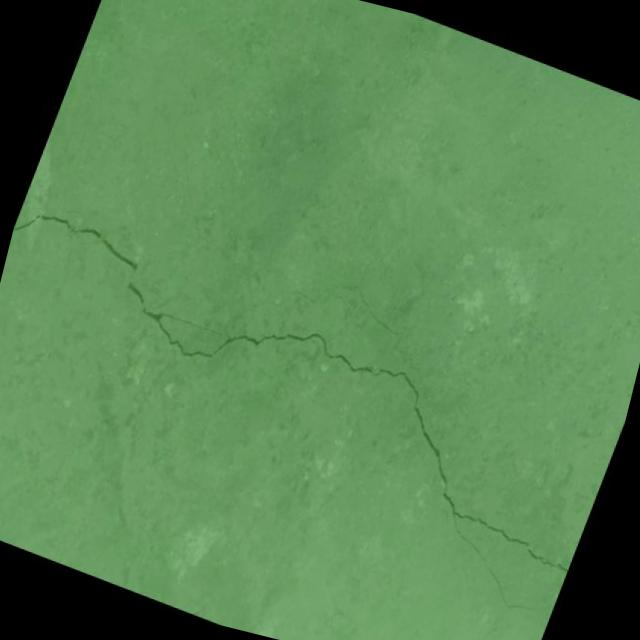crack: (0, 200, 639, 629), (265, 251, 446, 374)
